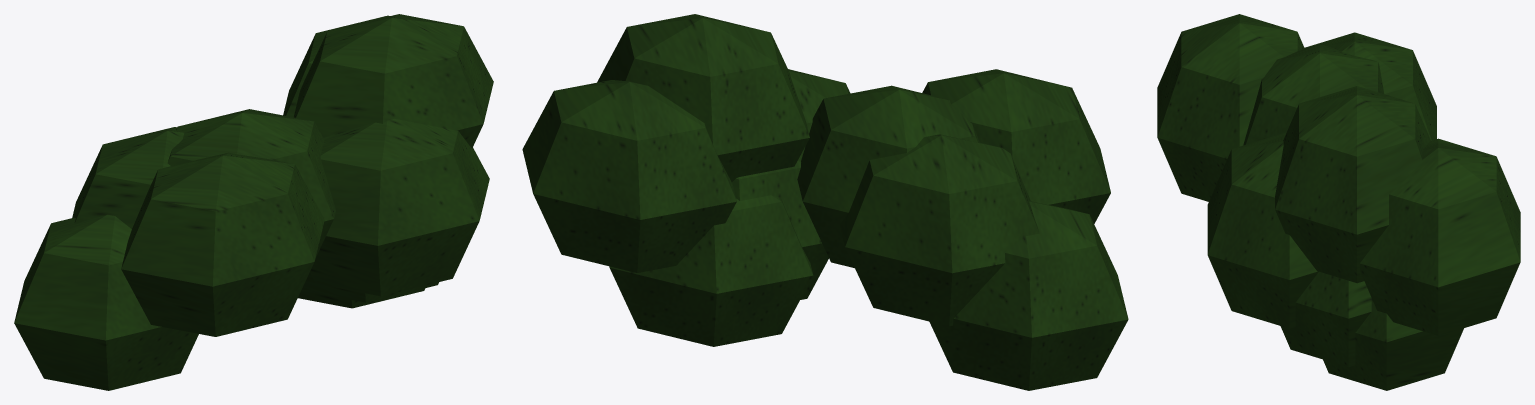
File: PROP-7FFB497B4844_lod2.glb
3 renders of one model, left to right at view 1: azimuth 30°, elevation 25°; view 2: azimuth 150°, elevation 25°; view 3: azimuth 270°, elevation 25°, orthographic. The views are drawn at different scales.
Parts seen in each view (by area): view 1: foliage.011; view 2: foliage.011; view 3: foliage.011.
Part boxes in pixels (x1,y1,x2,y2): foliage.011: (14, 14, 493, 390); foliage.011: (522, 14, 1128, 390); foliage.011: (1157, 14, 1520, 390).
Size of the model in its own units: 1.54 by 0.8255 by 0.9195.
1 material, 1 textured.
